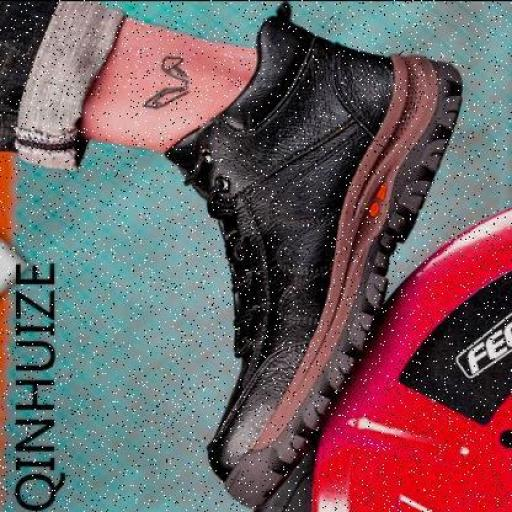safety_shoe: (162, 8, 462, 500)
